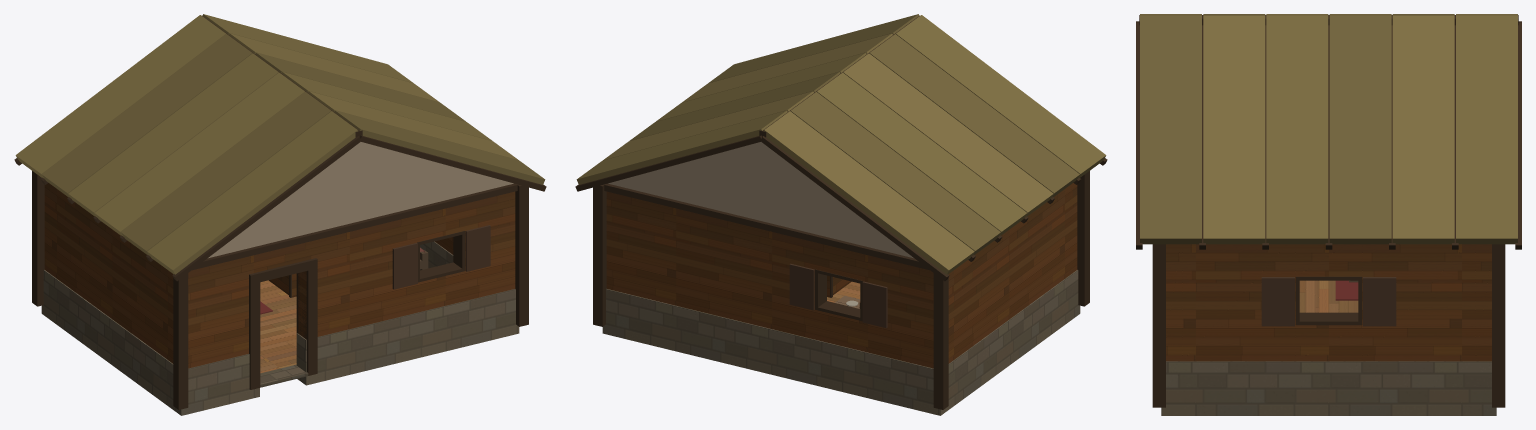
The model's file is casa-terminada.glb.
3 views of the same model, side by side, from view 1: azimuth 30°, elevation 25°; view 2: azimuth 150°, elevation 25°; view 3: azimuth 270°, elevation 25° (orthographic). The views are drawn at different scales.
Parts seen in each view (by area): view 1: casa-1, casa-0, casa-2; view 2: casa-1, casa-0, casa-2; view 3: casa-1, casa-0, casa-2.
Part boxes in pixels (bbox=[...]): casa-1: bbox=[14, 14, 546, 409]; casa-0: bbox=[44, 183, 515, 373]; casa-2: bbox=[41, 241, 519, 415]; casa-1: bbox=[575, 14, 1107, 409]; casa-0: bbox=[606, 183, 1077, 368]; casa-2: bbox=[602, 270, 1080, 415]; casa-1: bbox=[1136, 14, 1521, 407]; casa-0: bbox=[1166, 244, 1491, 361]; casa-2: bbox=[1161, 361, 1496, 415].
Bounding box in the file's own units: 7.76 × 5.01 × 5.8.
3 materials, 2 textured.
